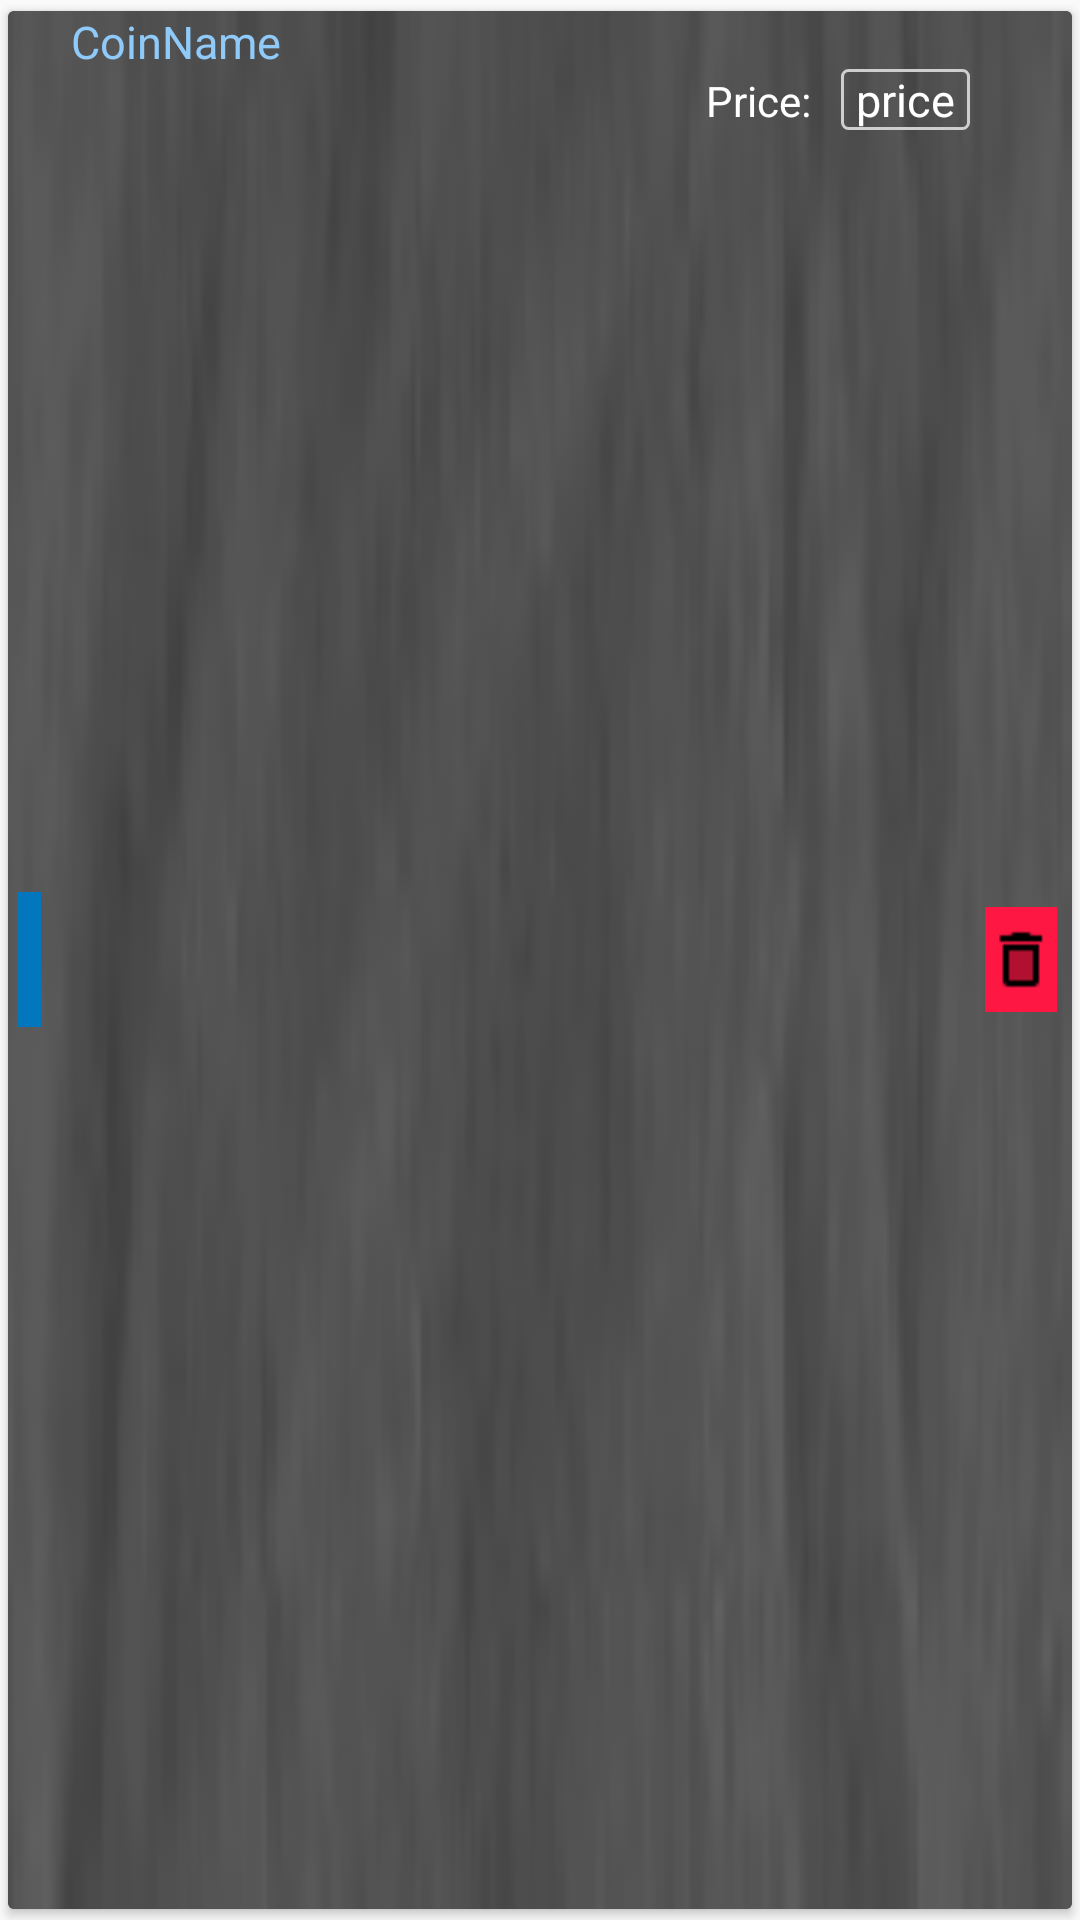

Where icons sit on this 1080×1920 app screen, as Rect(x1, y1, x2, y2):
delete: Rect(985, 907, 1057, 1012)
